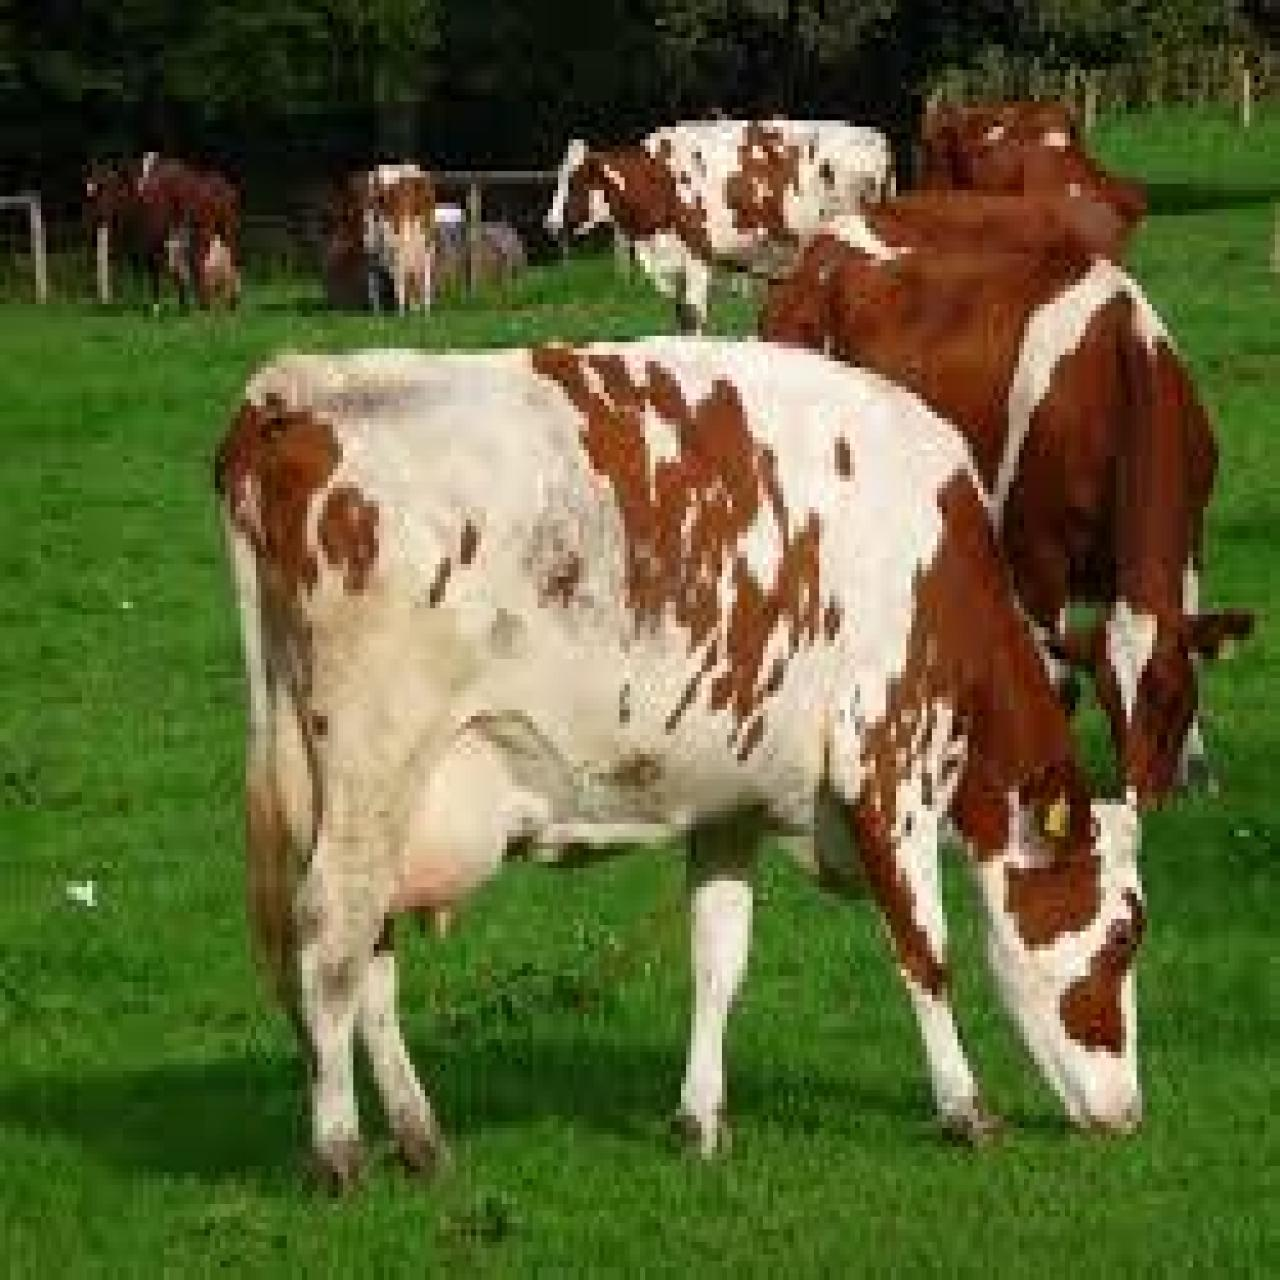cow: (215, 342, 1152, 1185), (755, 210, 1247, 824), (543, 114, 897, 336), (919, 95, 1149, 273), (77, 149, 246, 320), (342, 158, 441, 316)
